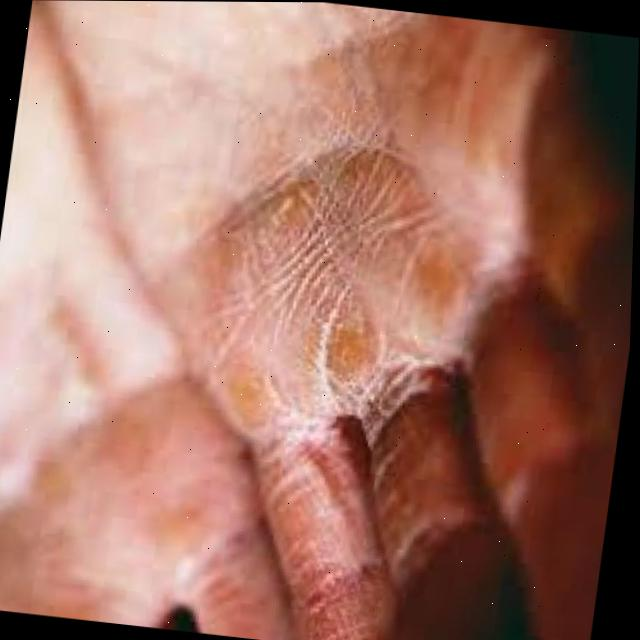Eczema: (196, 155, 491, 462)
